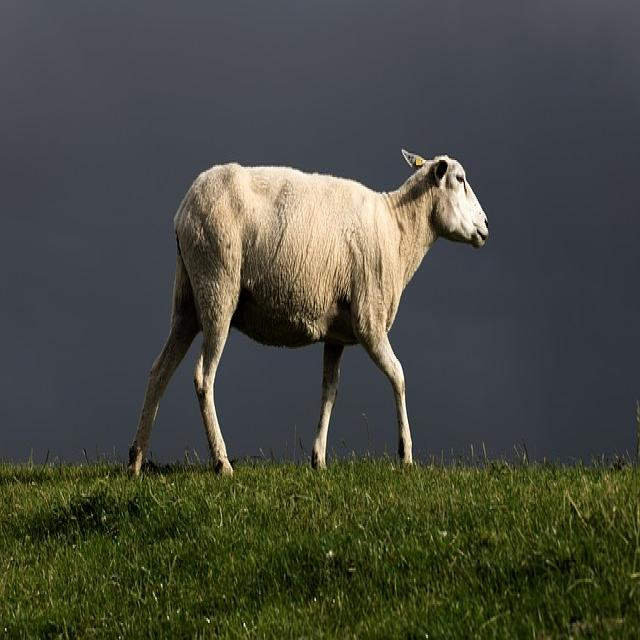goat: (128, 150, 490, 480)
